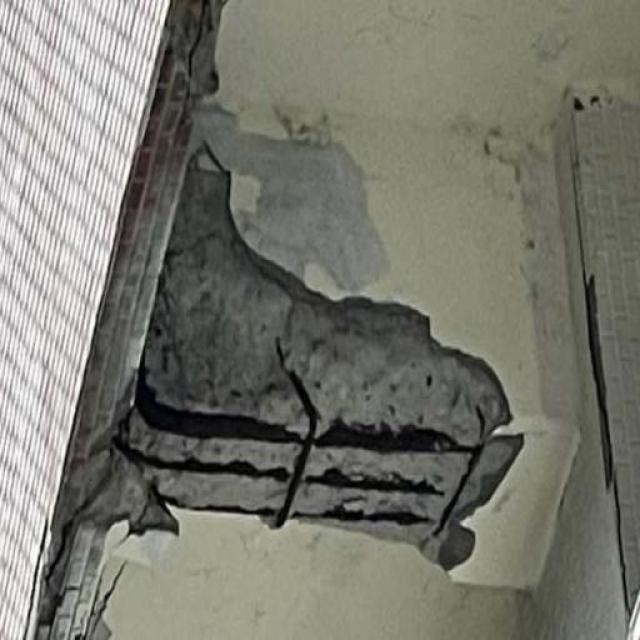D0w0: (116, 149, 522, 569)
